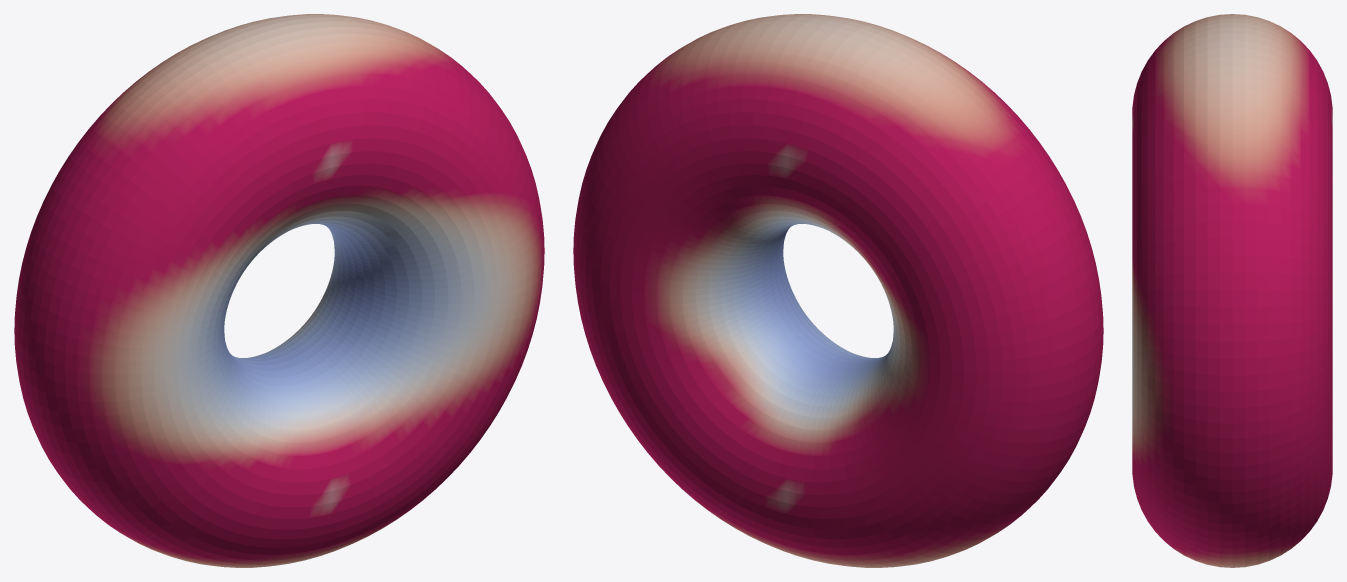
3 renders of one model, left to right at view 1: azimuth 30°, elevation 25°; view 2: azimuth 150°, elevation 25°; view 3: azimuth 270°, elevation 25°, orthographic. The views are drawn at different scales.
Visible parts, largest first — view 1: world; view 2: world; view 3: world.
Part boxes in pixels (left/top/right/bottom): world: left=14, top=14, right=544, bottom=567; world: left=573, top=14, right=1103, bottom=567; world: left=1132, top=14, right=1332, bottom=567.
Size of the model in its own units: 26.13 by 26.13 by 9.45.
